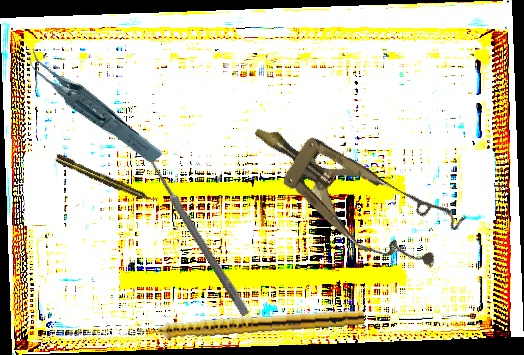Handpiece: (136, 305, 365, 341), (53, 152, 159, 207)
Speculum: (233, 95, 467, 288)
Surgical Spoon: (136, 141, 251, 317)
Tissue Forceps: (23, 25, 164, 185)
